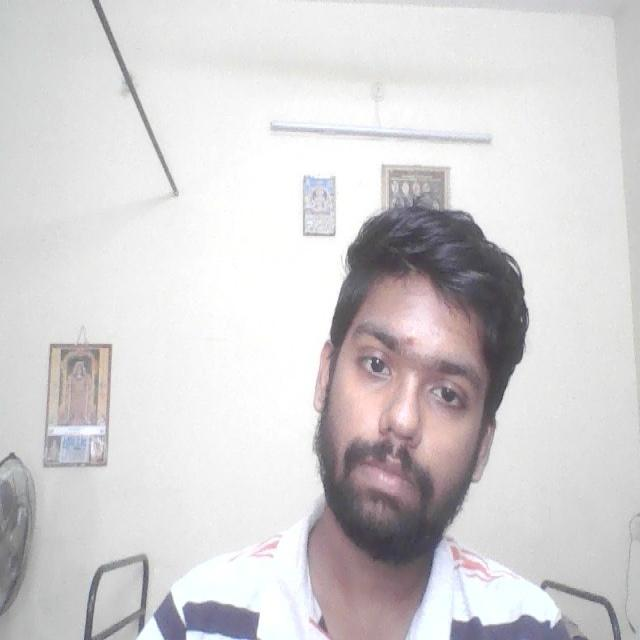Focused: (307, 268, 489, 498)
